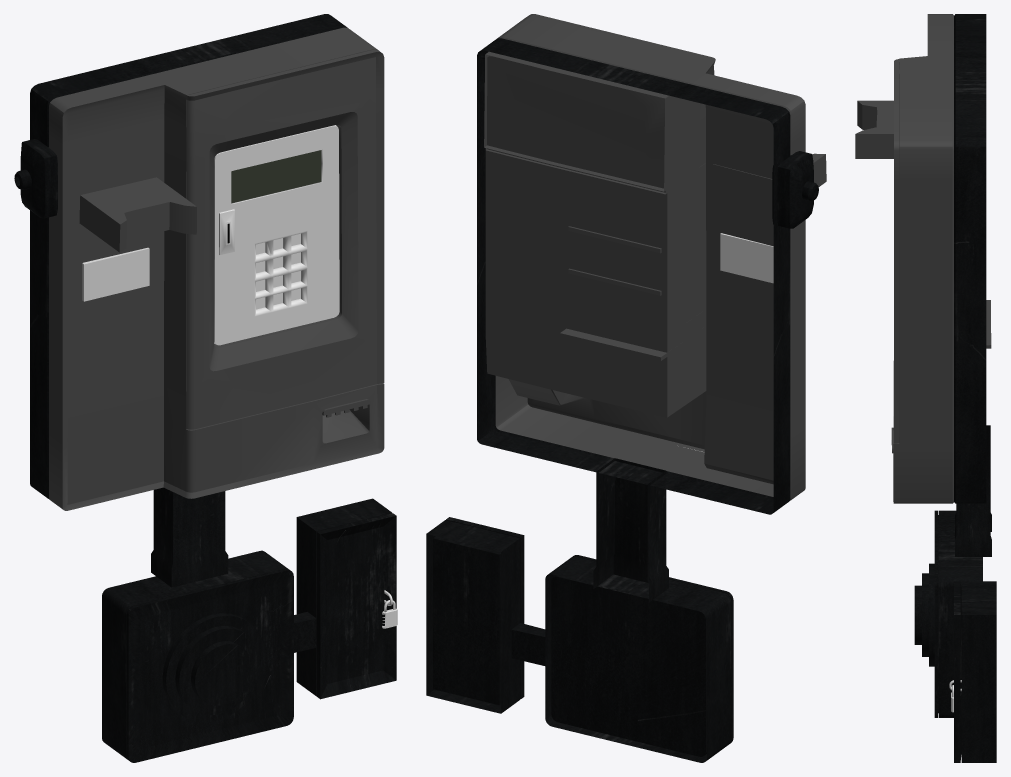
The model's file is mobule_fix_1.fbx.
3 renders of one model, left to right at view 1: azimuth 30°, elevation 25°; view 2: azimuth 150°, elevation 25°; view 3: azimuth 270°, elevation 25°, orthographic. The views are drawn at different scales.
Parts seen in each view (by area): view 1: module_frame, module_door, module.001, module, module.004, module_backframe, module.005, module_jijidae; view 2: module_frame, module, module_backframe, module_insideExtra, module.005, module_jijidae, module.004, module.001; view 3: module_frame, module_backframe, module, module.001, module.005, module_door, module_jijidae, module.004.
Part boxes in pixels (left/top/right/bottom): module_frame: left=49, top=27, right=384, bottom=510; module_door: left=186, top=49, right=384, bottom=429; module.001: left=126, top=569, right=293, bottom=762; module: left=14, top=139, right=391, bottom=759; module.004: left=316, top=513, right=396, bottom=699; module_backframe: left=30, top=14, right=348, bottom=498; module.005: left=151, top=487, right=228, bottom=587; module_jijidae: left=79, top=177, right=196, bottom=252; module_frame: left=485, top=16, right=805, bottom=500; module: left=426, top=151, right=818, bottom=762; module_backframe: left=477, top=38, right=790, bottom=514; module_insideExtra: left=484, top=51, right=705, bottom=371; module.005: left=593, top=458, right=668, bottom=602; module_jijidae: left=713, top=153, right=826, bottom=206; module.004: left=446, top=517, right=524, bottom=699; module.001: left=572, top=555, right=733, bottom=743; module_frame: left=893, top=14, right=953, bottom=503; module_backframe: left=954, top=14, right=986, bottom=503; module: left=891, top=427, right=996, bottom=762; module.001: left=914, top=510, right=938, bottom=717; module.005: left=955, top=425, right=991, bottom=556; module_door: left=894, top=59, right=899, bottom=443; module_jijidae: left=855, top=100, right=893, bottom=158; module.004: left=954, top=581, right=961, bottom=762.
Bounding box in the file's own units: 145 × 248 × 52.32.
